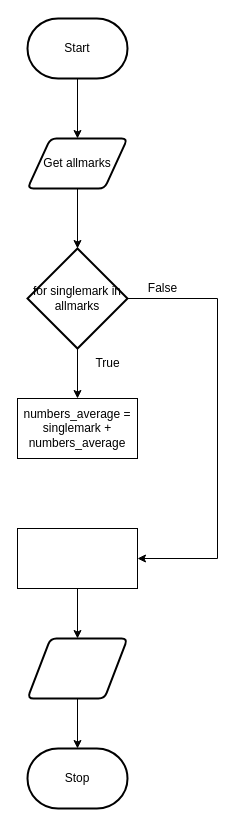
Image size: 243x826. Some labels were removed from this diagram. Here are the shapes that lost their labels. From the top down, the box of each, then its label:
(16, 528, 138, 588): numbers_average = numbers_average / len(allmarks)
(26, 637, 128, 699): return numbers_average
